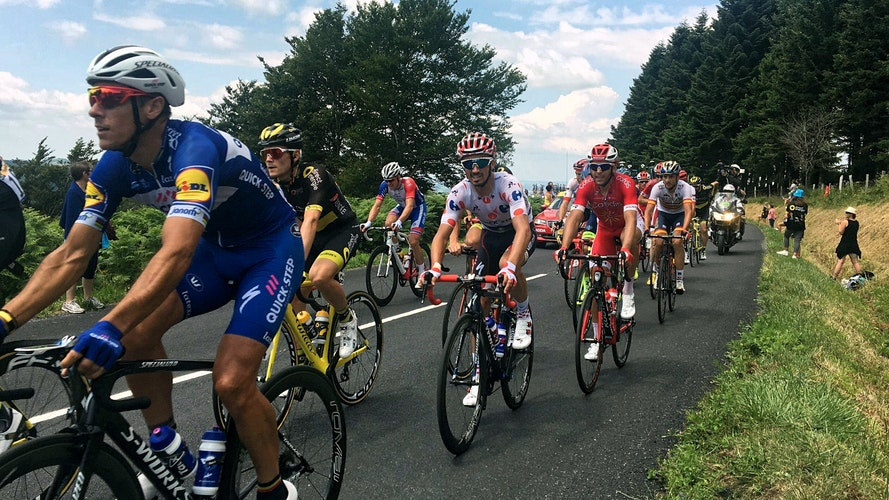helmet: (78, 41, 188, 98), (249, 115, 314, 153), (439, 130, 507, 154), (586, 142, 629, 163), (660, 155, 694, 176)
